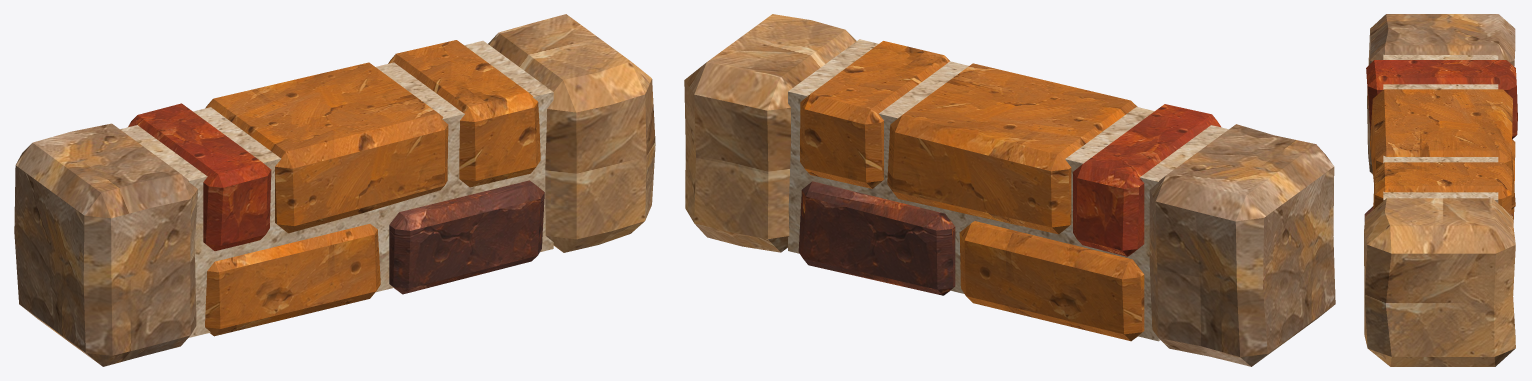
The model's file is beam_half__clay_brick.glb.
3 views of the same model, side by side, from view 1: azimuth 30°, elevation 25°; view 2: azimuth 150°, elevation 25°; view 3: azimuth 270°, elevation 25° (orthographic). The views are drawn at different scales.
Parts seen in each view (by area): view 1: model; view 2: model; view 3: model.
Boxes of the visible parts, x1,y1,x2,y2 form: model: (14, 14, 655, 366); model: (684, 14, 1335, 366); model: (1364, 14, 1517, 366).
Size of the model in its own units: 0.984 by 0.284 by 0.2812.
Materials: 6 (6 with a texture image).
